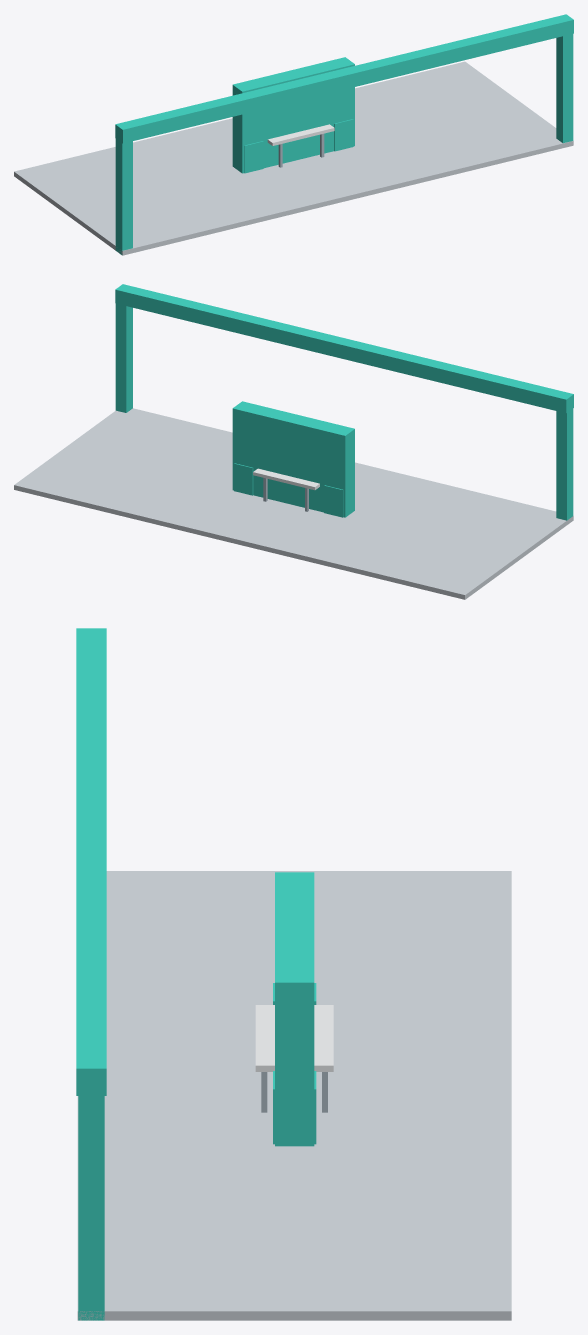
3 renders of one model, top to bottom at view 1: azimuth 30°, elevation 25°; view 2: azimuth 150°, elevation 25°; view 3: azimuth 270°, elevation 25°, orthographic. The views are drawn at different scales.
Visible parts, largest first — view 1: Exhibition Booth Concept; view 2: Exhibition Booth Concept; view 3: Exhibition Booth Concept.
Boxes of the visible parts, bbox=[...] form: Exhibition Booth Concept: bbox=[14, 14, 573, 255]; Exhibition Booth Concept: bbox=[14, 284, 573, 599]; Exhibition Booth Concept: bbox=[76, 628, 511, 1320].
Size of the model in its own units: 12 by 3.2 by 5.02.
